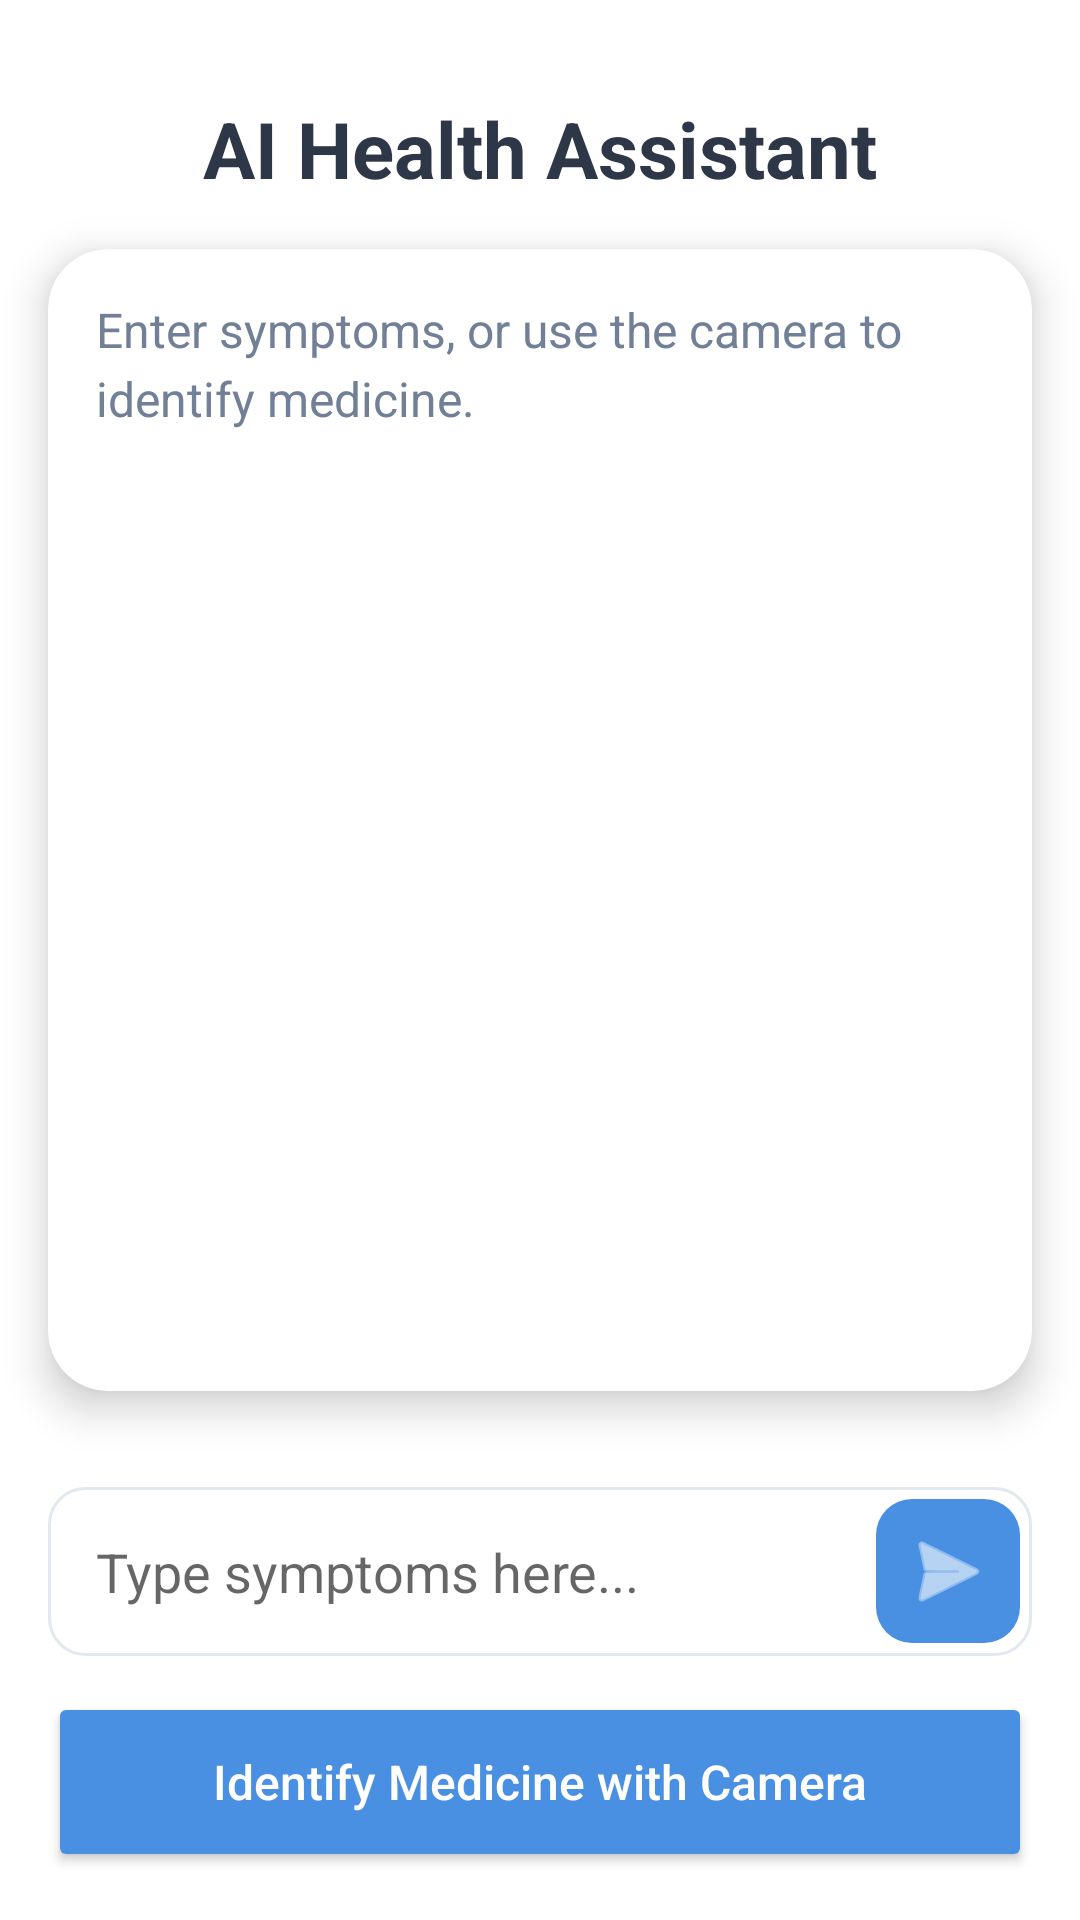

Point at icon controls on the screen. Image size 1080 x 1920, points as (x,y).
send: (948,1571)
